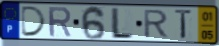6: (80, 5, 107, 42)
D: (20, 6, 48, 38)
L: (109, 6, 135, 40)
R: (142, 9, 170, 39), (47, 6, 73, 38)
T: (173, 8, 194, 41)
